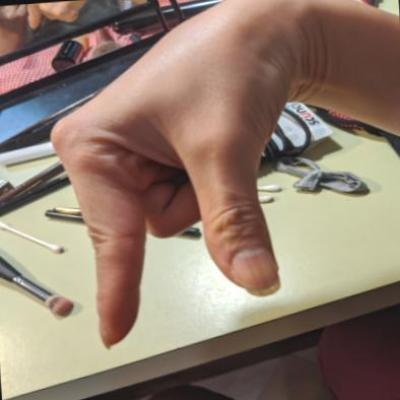hand: (33, 0, 328, 360)
